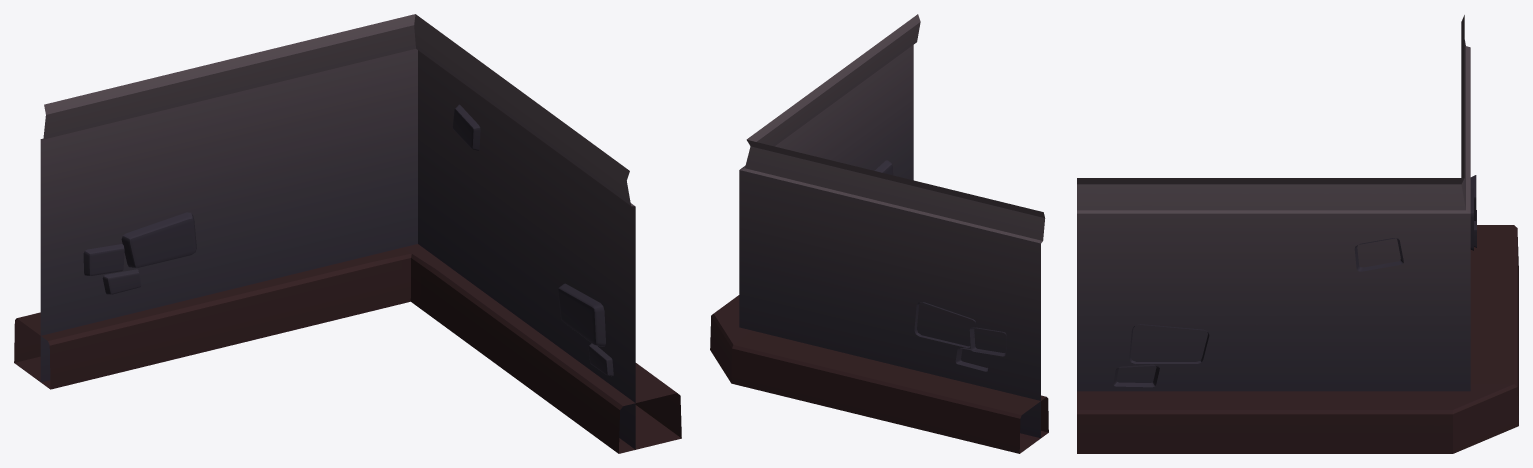
The model's file is SM_Corner_Piece.fbx.
3 renders of one model, left to right at view 1: azimuth 30°, elevation 25°; view 2: azimuth 150°, elevation 25°; view 3: azimuth 270°, elevation 25°, orthographic. The views are drawn at different scales.
Visible parts, largest first — view 1: SM_CornerPiece; view 2: SM_CornerPiece; view 3: SM_CornerPiece.
Boxes of the visible parts, x1=… form: SM_CornerPiece: x1=14, y1=14, x2=681, y2=453; SM_CornerPiece: x1=710, y1=14, x2=1048, y2=453; SM_CornerPiece: x1=1077, y1=15, x2=1518, y2=453.
Bounding box in the file's own units: 235 × 149 × 235.
1 material, 1 textured.
